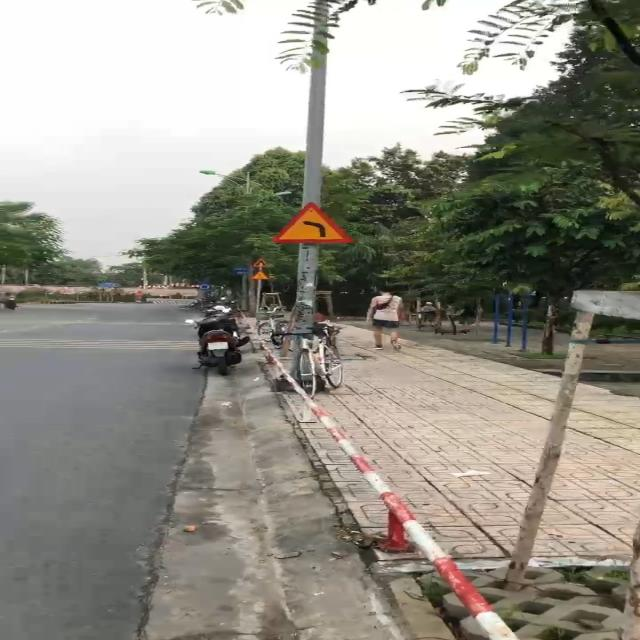Bien bao cho ngoat nguy hiem: (271, 199, 355, 247)
